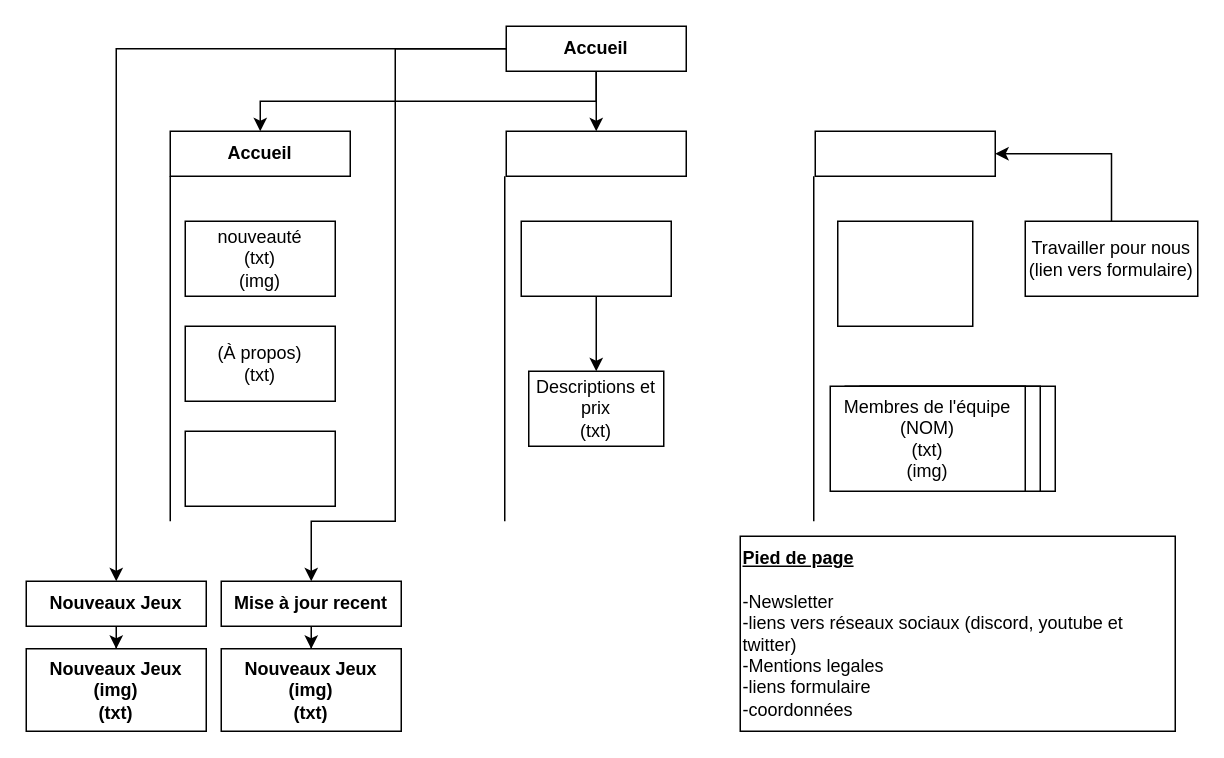
Image size: 1224x758. Some labels were removed from this diagram. Here are the shapes that lost their labels. From the top down, the centre of each, then its label:
At [595,153]: "Nos Jeux".
At [904,153]: "Contacter-Nous".
At [595,258]: "Liste des jeux (txt) (img)".
At [904,273]: "coordonnées (txt) (img) (lien carte)".
At [259,468]: "newsletter (formulaire-courriel)".
